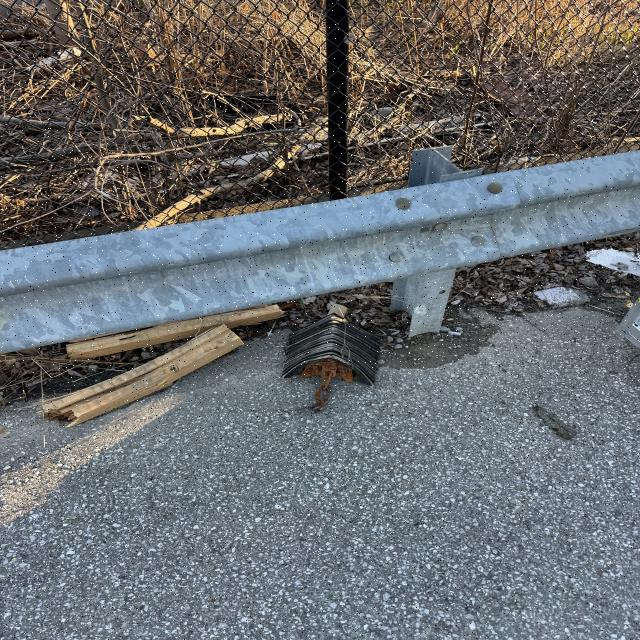Guard rail: (21, 156, 627, 336)
